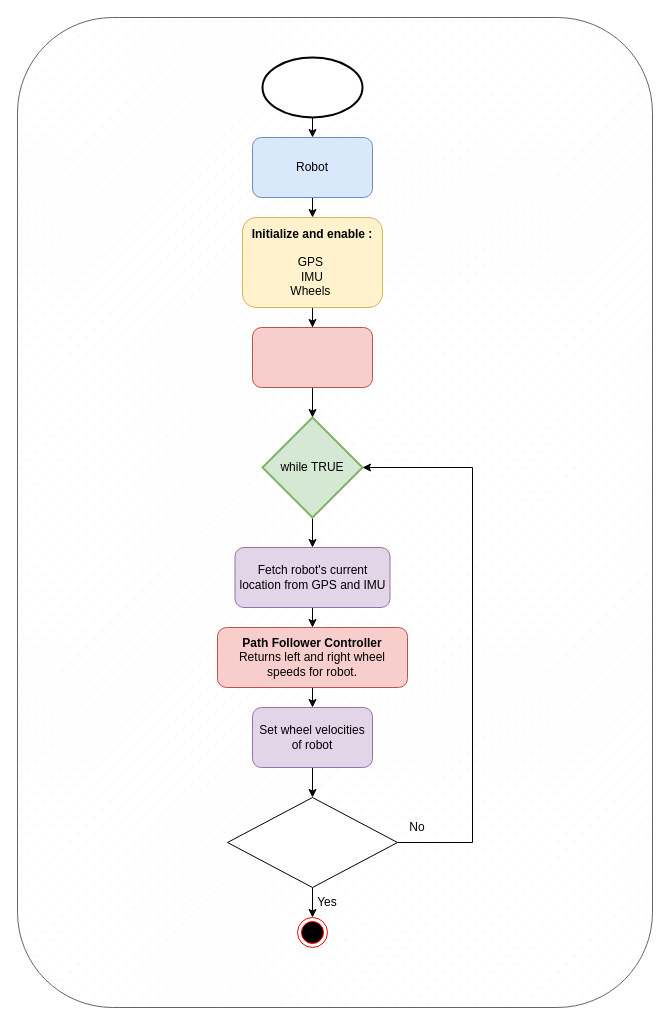
Some shapes in this 670 by 1025 pixel diagram are drawn without their labels. Here are the shapes that lost their labels. From the top down, the centre of each, then its label:
[312,87]: Start
[312,357]: Sketch Function Returns set of points to trace a curve
[312,842]: Curve trace completed ?
